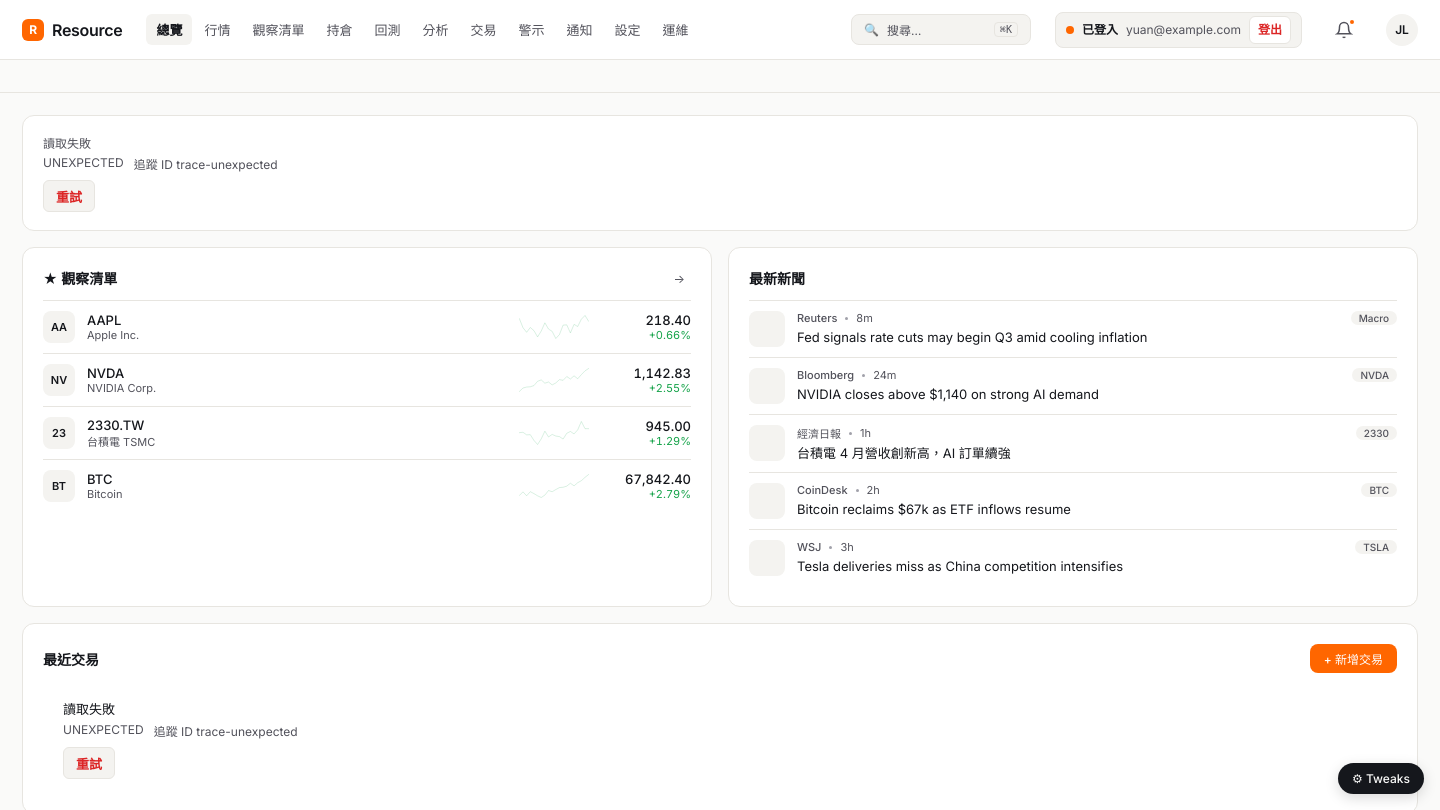
App session shell › successful logout returns to anonymous state and keeps persistent session surface
Click the button with test id "header-logout": (1270, 30) [1249, 16, 1291, 44]
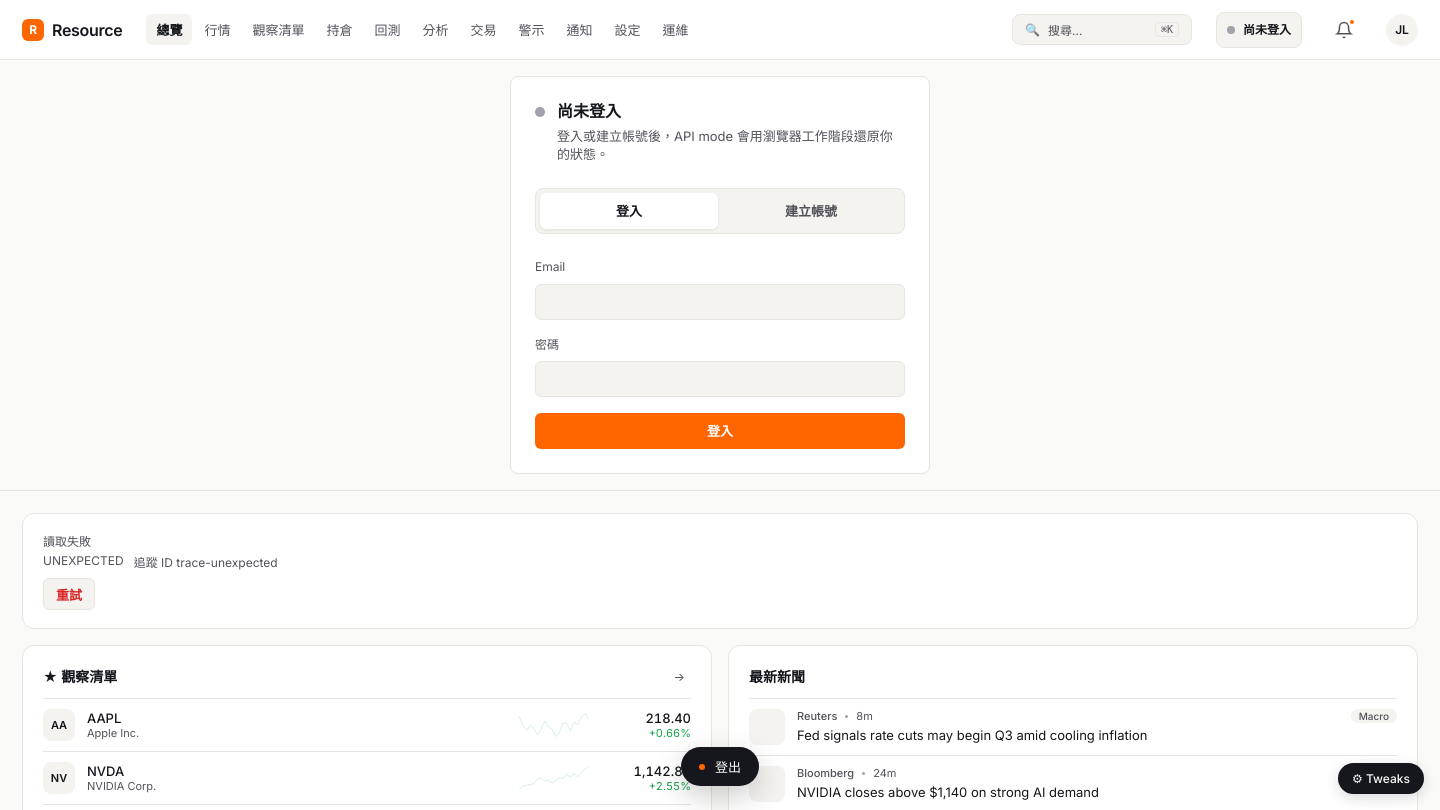
Expected: the text "登出" is shown, [681, 747, 759, 786]
Expected: the text "尚未登入" is shown, [1243, 24, 1291, 36]
Expected: the text "yuan@example.com" is gone
